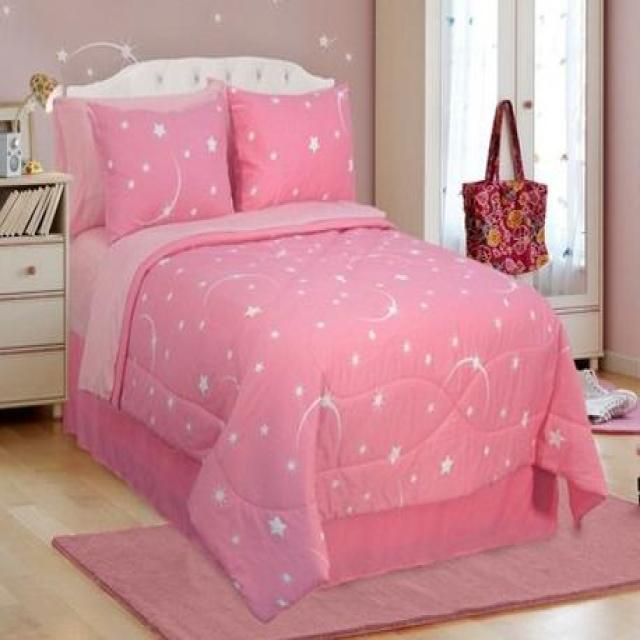bed: (53, 53, 609, 621)
